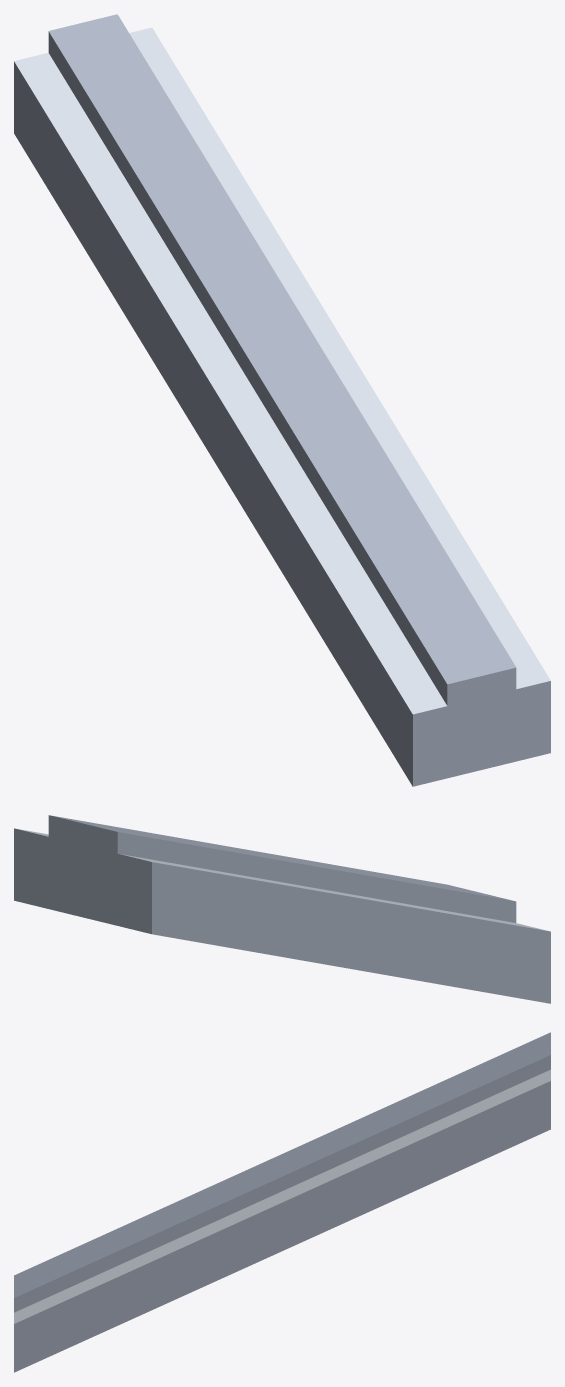
The model's file is monorail_trackSlope.glb.
3 views of the same model, one above another, from view 1: azimuth 30°, elevation 25°; view 2: azimuth 150°, elevation 25°; view 3: azimuth 270°, elevation 25° (orthographic). The views are drawn at different scales.
Visible parts, largest first — view 1: monorail_trackSlope; view 2: monorail_trackSlope; view 3: monorail_trackSlope.
Part boxes in pixels (left/top/right/bottom): monorail_trackSlope: left=14, top=14, right=550, bottom=786; monorail_trackSlope: left=14, top=815, right=550, bottom=1003; monorail_trackSlope: left=14, top=1032, right=550, bottom=1372.
Bounding box in the file's own units: 0.2 × 0.63 × 1.
